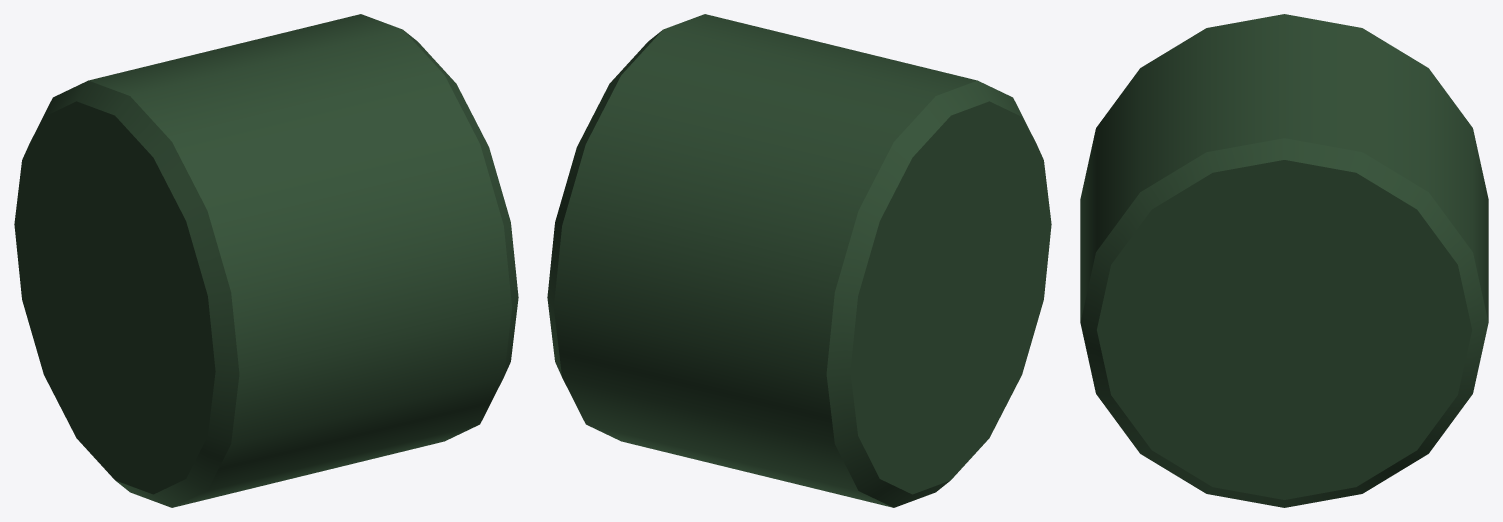
The model's file is farm.bale.round_green.glb.
3 views of the same model, side by side, from view 1: azimuth 30°, elevation 25°; view 2: azimuth 150°, elevation 25°; view 3: azimuth 270°, elevation 25° (orthographic). The views are drawn at different scales.
Visible parts, largest first — view 1: main__paint_353; view 2: main__paint_353; view 3: main__paint_353.
Part boxes in pixels (x1,y1,x2,y2): main__paint_353: (14, 14, 518, 507); main__paint_353: (547, 14, 1051, 507); main__paint_353: (1080, 14, 1488, 507).
Size of the model in its own units: 1.2 by 1.5 by 1.5.
